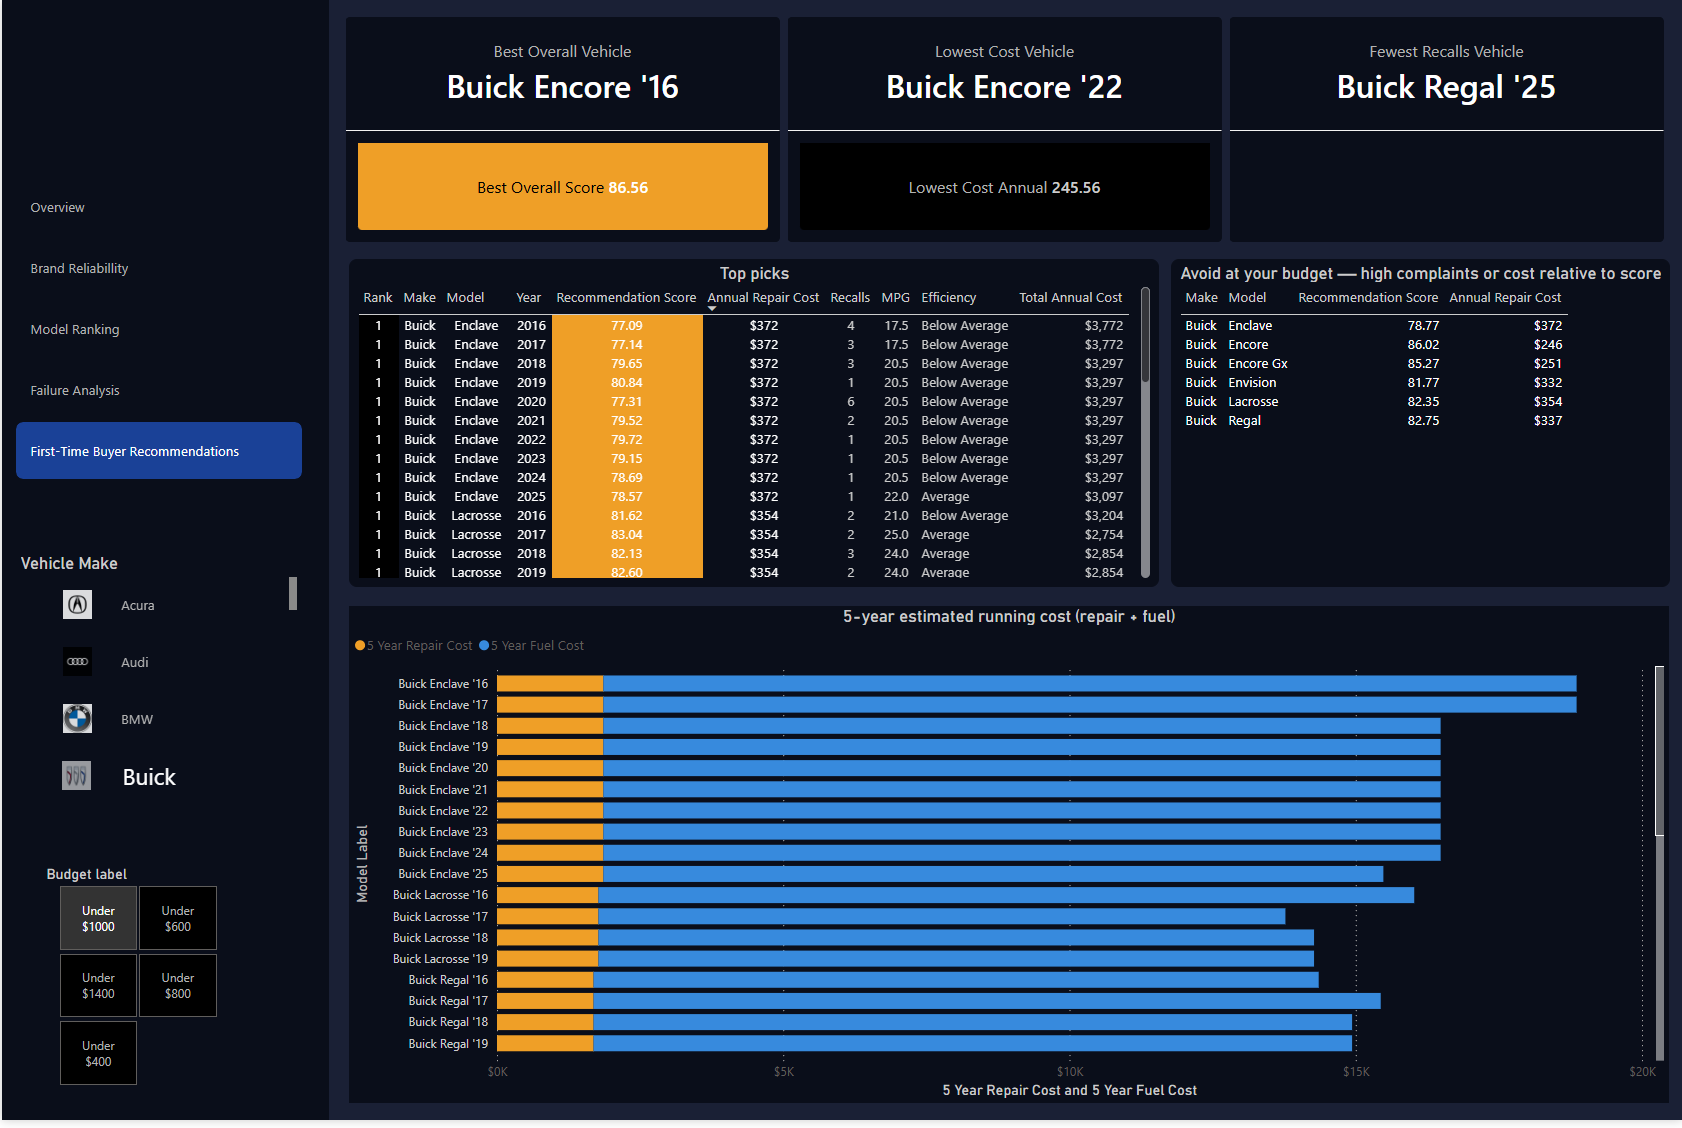

This screenshot's page, from the dashboard's own definition file:
{"tool":"powerbi","page":{"name":"First-Time Buyer Recommendations","canvas":[1580,1280],"ordinal":4},"visuals":[{"type":"shape","box":[0,0,326.9,1279.7],"z":0},{"type":"pageNavigator","box":[13.8,177.5,286.1,301.6],"z":1000},{"type":"slicer","fields":{"Values":["Budget Buckets.budget_label"]},"box":[31.9,861.1,207.3,231.2],"z":2000},{"type":"advancedSlicerVisual","fields":{"Values":["silver_logos.vehicle_make"]},"box":[13.8,553.3,286.1,255.1],"z":3000},{"type":"cardVisual","fields":{"Data":["gold_fact_vehicle_reliability.Best Overall Vehicle","gold_fact_vehicle_reliability.Lowest Cost Vehicle","gold_fact_vehicle_reliability.Fewest Recalls Vehicle"]},"box":[326.9,0,1239.8,259.1],"z":4000},{"type":"tableEx","title":"Top picks","fields":{"Values":["gold_fact_vehicle_reliability.Rec Rank","gold_fact_vehicle_reliability.vehicle_make","gold_fact_vehicle_reliability.vehicle_model","gold_fact_vehicle_reliability.model_year","gold_fact_vehicle_reliability.Recommendation Score","gold_fact_vehicle_reliability.Annual Repair Cost","Sum(gold_fact_vehicle_reliability.recall_count)"]},"box":[346.8,259.1,604,402.6],"z":5000},{"type":"clusteredBarChart","fields":{"Category":["gold_fact_vehicle_reliability.Model Label"],"Y":["gold_fact_vehicle_reliability.5 Year Total Cost"]},"box":[346.8,693.7,1205.9,544.2],"z":6000},{"type":"tableEx","title":"Avoid at your budget — high complaints or cost relative to score","fields":{"Values":["gold_fact_vehicle_reliability.vehicle_make","gold_fact_vehicle_reliability.vehicle_model","gold_fact_vehicle_reliability.Recommendation Score","gold_fact_vehicle_reliability.Annual Repair Cost"]},"box":[982.7,259.1,570.1,402.6],"z":7000}]}

Visuals, with their boxes on the page's 1580x1280 design canvas (x1, y1, x2, y2). These are canvas units, not pixel positions in the 1682x1128 screenshot, which may show the page scaled, cropped or inside an application window:
shape: (x1=0, y1=0, x2=327, y2=1280)
pageNavigator: (x1=14, y1=178, x2=300, y2=479)
slicer - Budget Buckets.budget_label: (x1=32, y1=861, x2=239, y2=1092)
advancedSlicerVisual - silver_logos.vehicle_make: (x1=14, y1=553, x2=300, y2=808)
cardVisual - gold_fact_vehicle_reliability.Best Overall Vehicle x gold_fact_vehicle_reliability.Lowest Cost Vehicle: (x1=327, y1=0, x2=1567, y2=259)
"Top picks" tableEx: (x1=347, y1=259, x2=951, y2=662)
clusteredBarChart - gold_fact_vehicle_reliability.Model Label x gold_fact_vehicle_reliability.5 Year Total Cost: (x1=347, y1=694, x2=1553, y2=1238)
"Avoid at your budget — high complaints or cost relative to score" tableEx: (x1=983, y1=259, x2=1553, y2=662)
